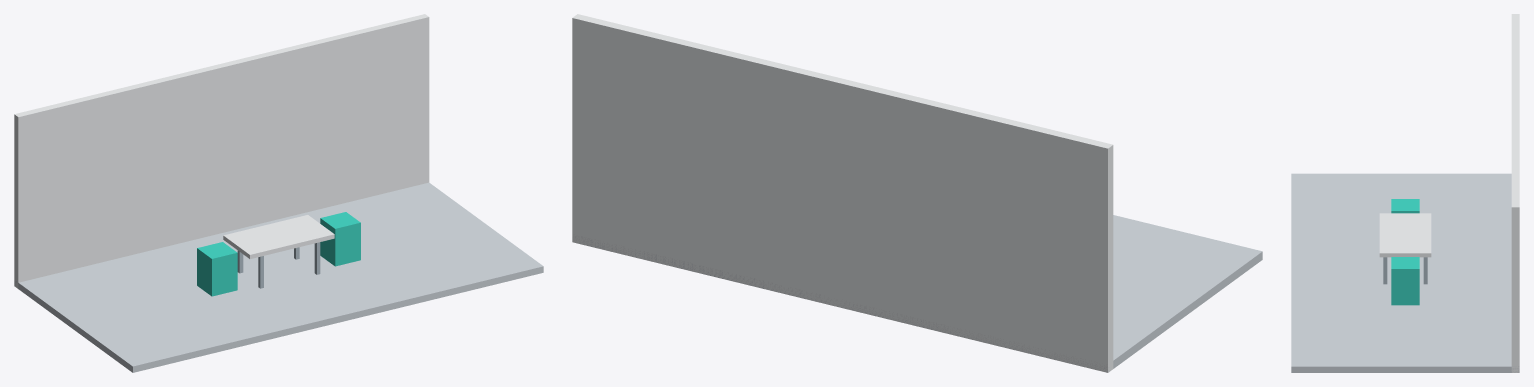
3 renders of one model, left to right at view 1: azimuth 30°, elevation 25°; view 2: azimuth 150°, elevation 25°; view 3: azimuth 270°, elevation 25°, orthographic. The views are drawn at different scales.
Visible parts, largest first — view 1: Exhibition Booth Concept; view 2: Exhibition Booth Concept; view 3: Exhibition Booth Concept.
Part boxes in pixels (x1,y1,x2,y2): Exhibition Booth Concept: (14,14,543,372); Exhibition Booth Concept: (572,14,1262,372); Exhibition Booth Concept: (1291,14,1519,372).
Size of the model in its own units: 8 by 3.2 by 4.
